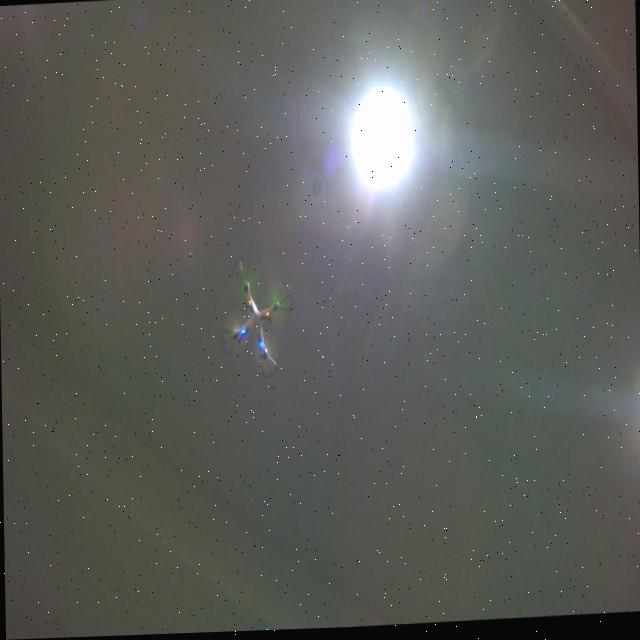drone: (217, 253, 298, 385)
